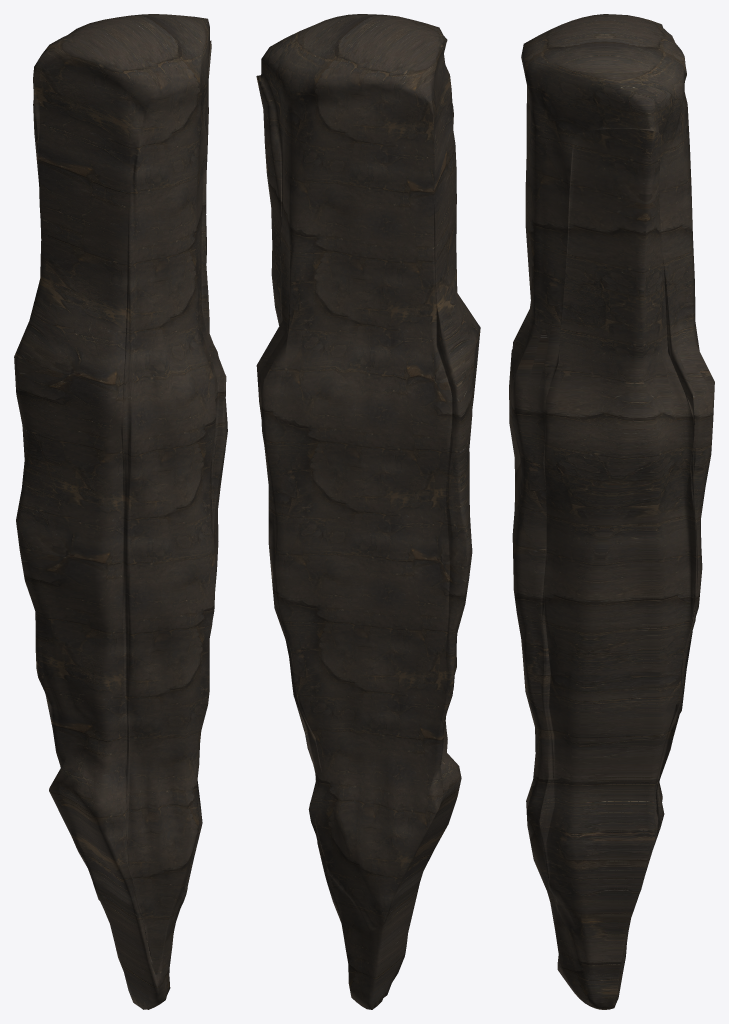
File: cliff_pillar_b_lod0.gltf
3 renders of one model, left to right at view 1: azimuth 30°, elevation 25°; view 2: azimuth 150°, elevation 25°; view 3: azimuth 270°, elevation 25°, orthographic.
Visible parts, largest first — view 1: cliff_pillar_b_LOD0; view 2: cliff_pillar_b_LOD0; view 3: cliff_pillar_b_LOD0.
Part boxes in pixels (bbox=[...]): cliff_pillar_b_LOD0: bbox=[14, 14, 227, 1009]; cliff_pillar_b_LOD0: bbox=[256, 14, 480, 1009]; cliff_pillar_b_LOD0: bbox=[509, 14, 714, 1009].
Size of the model in its own units: 9.57 by 44 by 8.41.
1 material, 1 textured.
